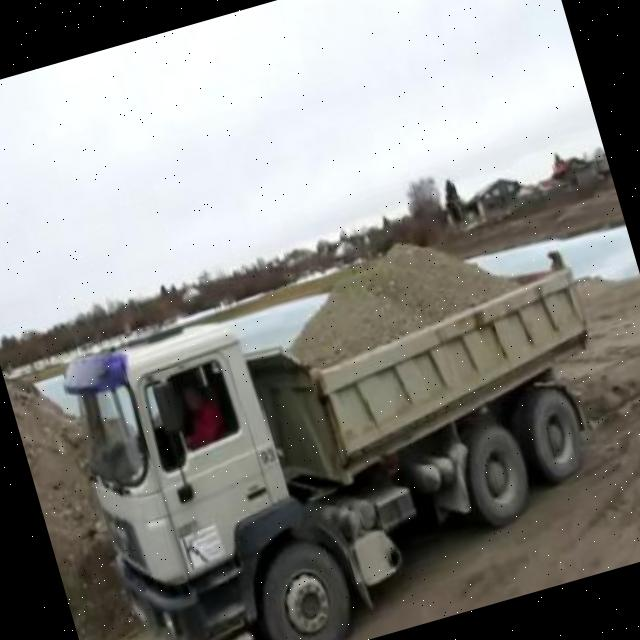Dump Truck: (47, 199, 640, 640)
